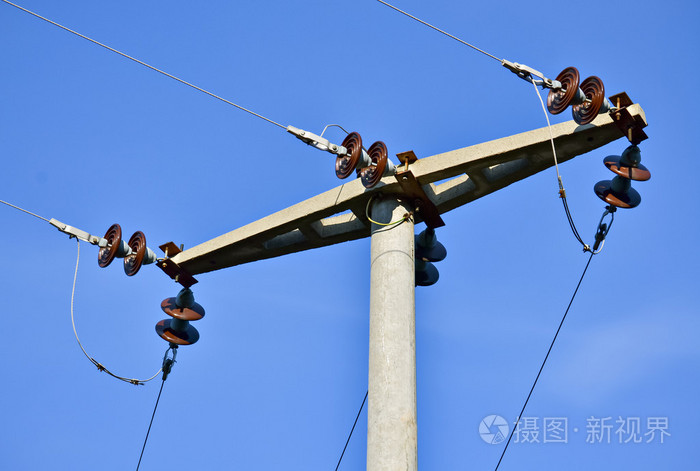insulator: (545, 63, 603, 124), (330, 127, 387, 186), (594, 153, 652, 208), (93, 222, 145, 276), (152, 296, 207, 347), (413, 234, 447, 288)
